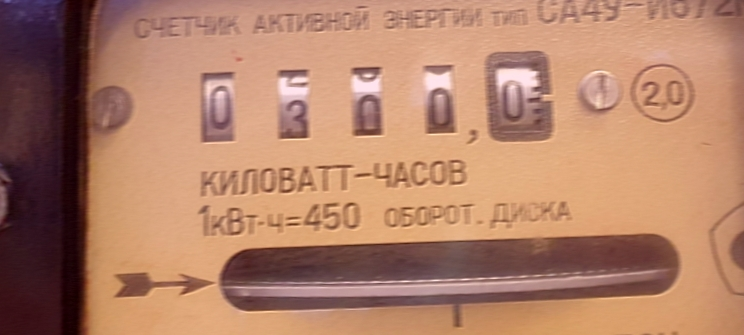0: (354, 87, 383, 136), (498, 74, 527, 123), (424, 83, 454, 130), (207, 78, 234, 130)
3: (281, 93, 311, 137)
screen: (179, 41, 563, 160)
